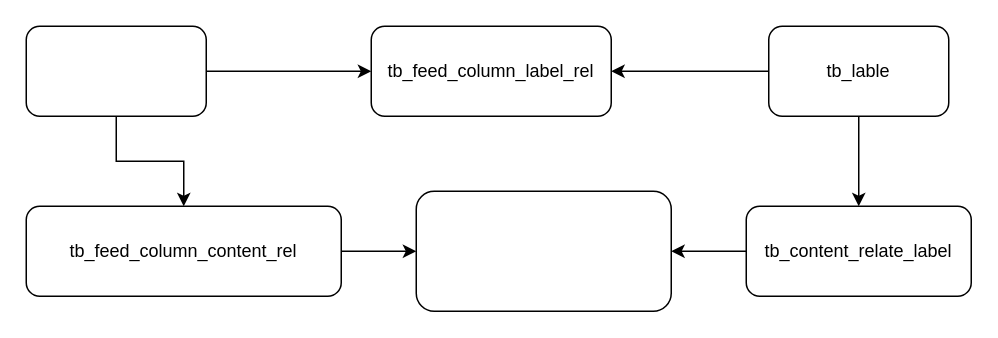
Some shapes in this 998 by 338 pixel diagram are drawn without their labels. The shapes that lost their labels are listed below. From the top down, each one's centre as x and y in pixels, then its label:
At point 115,70: "tb_feed_column".
At point 543,250: "tb_content_image_text".
